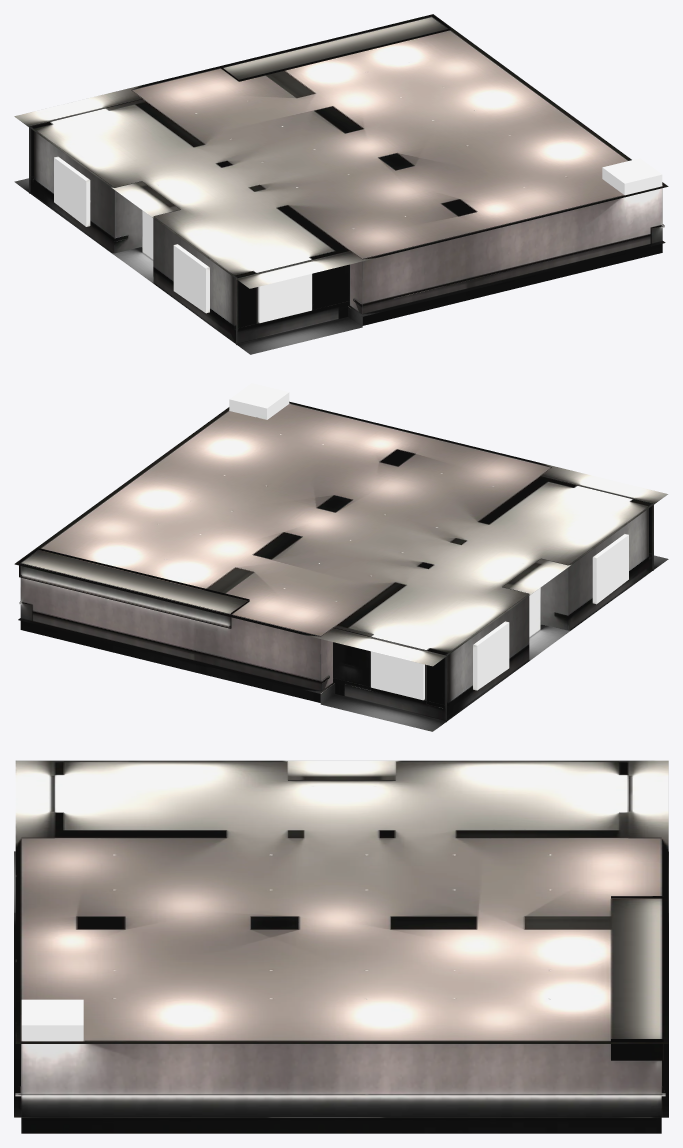
The model's file is BigRoomL.glb.
3 renders of one model, top to bottom at view 1: azimuth 30°, elevation 25°; view 2: azimuth 150°, elevation 25°; view 3: azimuth 270°, elevation 25°, orthographic. The views are drawn at different scales.
Visible parts, largest first — view 1: pCube8.001; view 2: pCube8.001; view 3: pCube8.001.
Part boxes in pixels (<box>): pCube8.001: <box>14,14,668,354</box>; pCube8.001: <box>14,383,668,731</box>; pCube8.001: <box>14,760,668,1133</box>.
Bounding box in the file's own units: 0.6012 × 0.1066 × 0.5841.
Materials: 2 (1 with a texture image).
